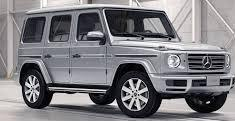SUV: (19, 6, 232, 118)
